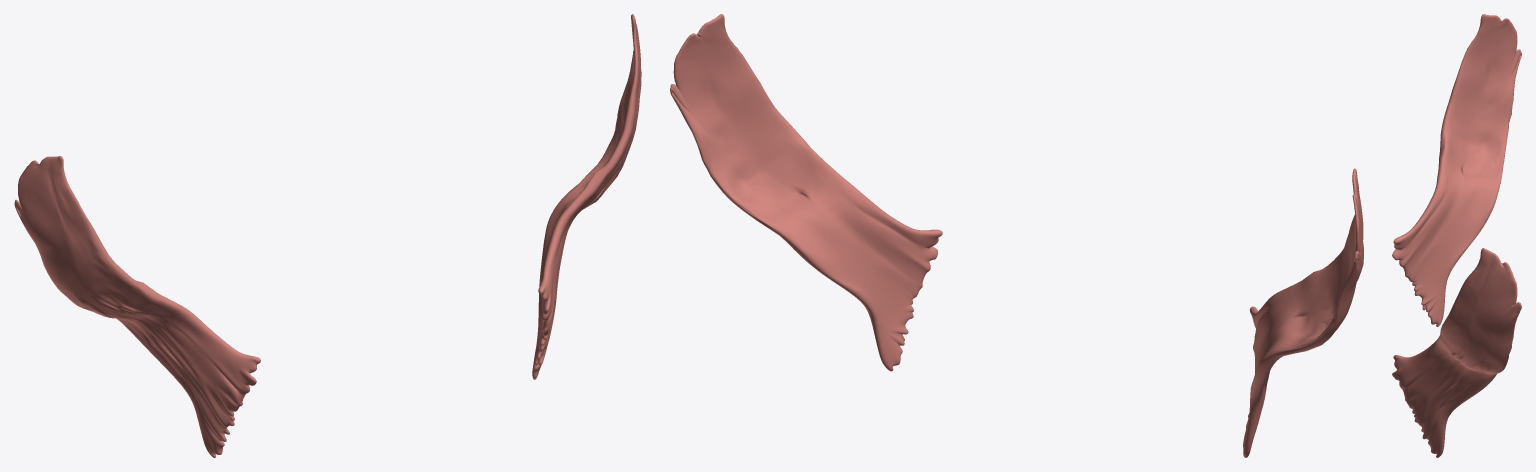
File: zygomaticus.glb
3 renders of one model, left to right at view 1: azimuth 30°, elevation 25°; view 2: azimuth 150°, elevation 25°; view 3: azimuth 270°, elevation 25°, orthographic. The views are drawn at different scales.
Parts seen in each view (by area): view 1: zygomaticus_R, zygomaticus_L; view 2: zygomaticus_L, zygomaticus_R; view 3: zygomaticus_R, zygomaticus_L.
Part boxes in pixels (x1,y1,x2,y2): zygomaticus_R: [14, 156, 260, 457]; zygomaticus_L: [532, 14, 641, 379]; zygomaticus_L: [670, 14, 942, 371]; zygomaticus_R: [1243, 168, 1363, 457]; zygomaticus_R: [1392, 14, 1521, 326]; zygomaticus_L: [1392, 248, 1521, 457].
Bounding box in the file's own units: 0.1164 × 0.0559 × 0.0252.
